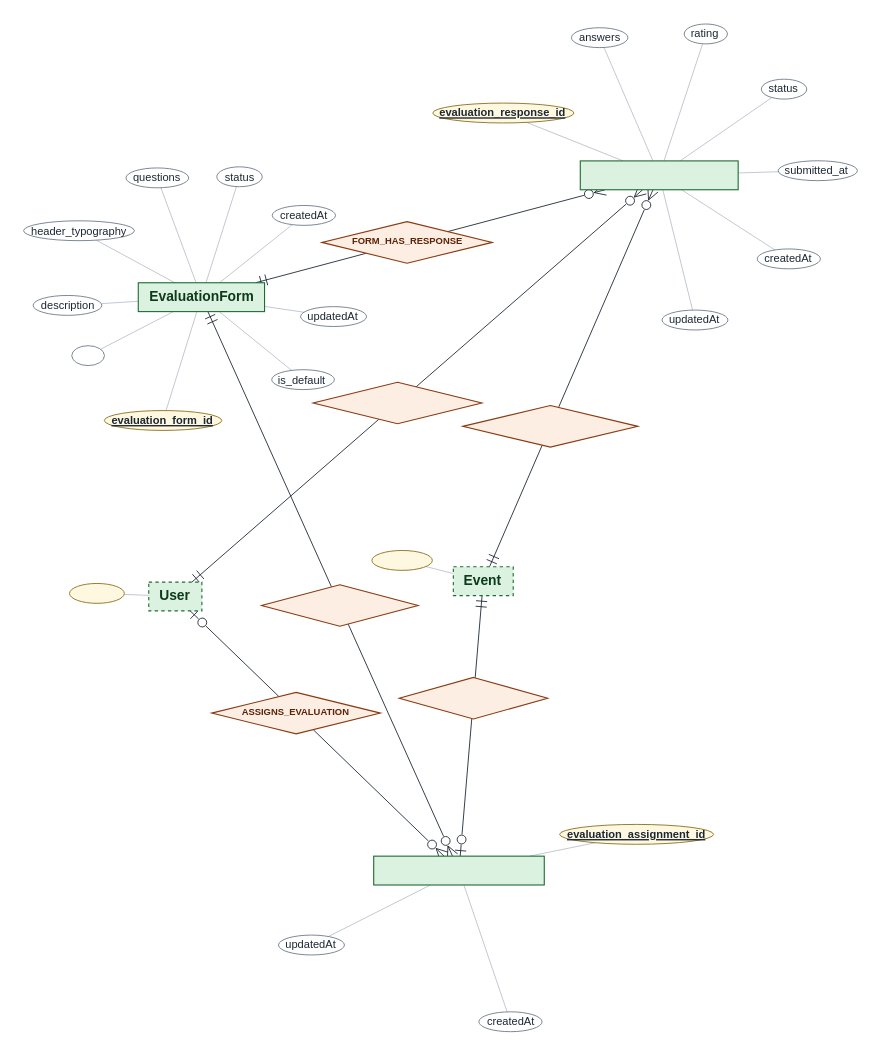
This 882x1056 diagram has some shape labels left out. Here are the shapes that lost their labels. From the top down, the box of each, then its label:
(579, 160, 738, 190): EvaluationResponse
(71, 345, 104, 365): title
(312, 381, 482, 424): SUBMITS_EVALUATION
(461, 404, 638, 447): EVENT_HAS_RESPONSE
(371, 549, 432, 570): event_id
(68, 582, 124, 603): user_id
(260, 583, 418, 626): FORM_ASSIGNED_TO
(398, 676, 548, 719): EVENT_USES_FORM
(372, 855, 544, 885): EvaluationAssignment
